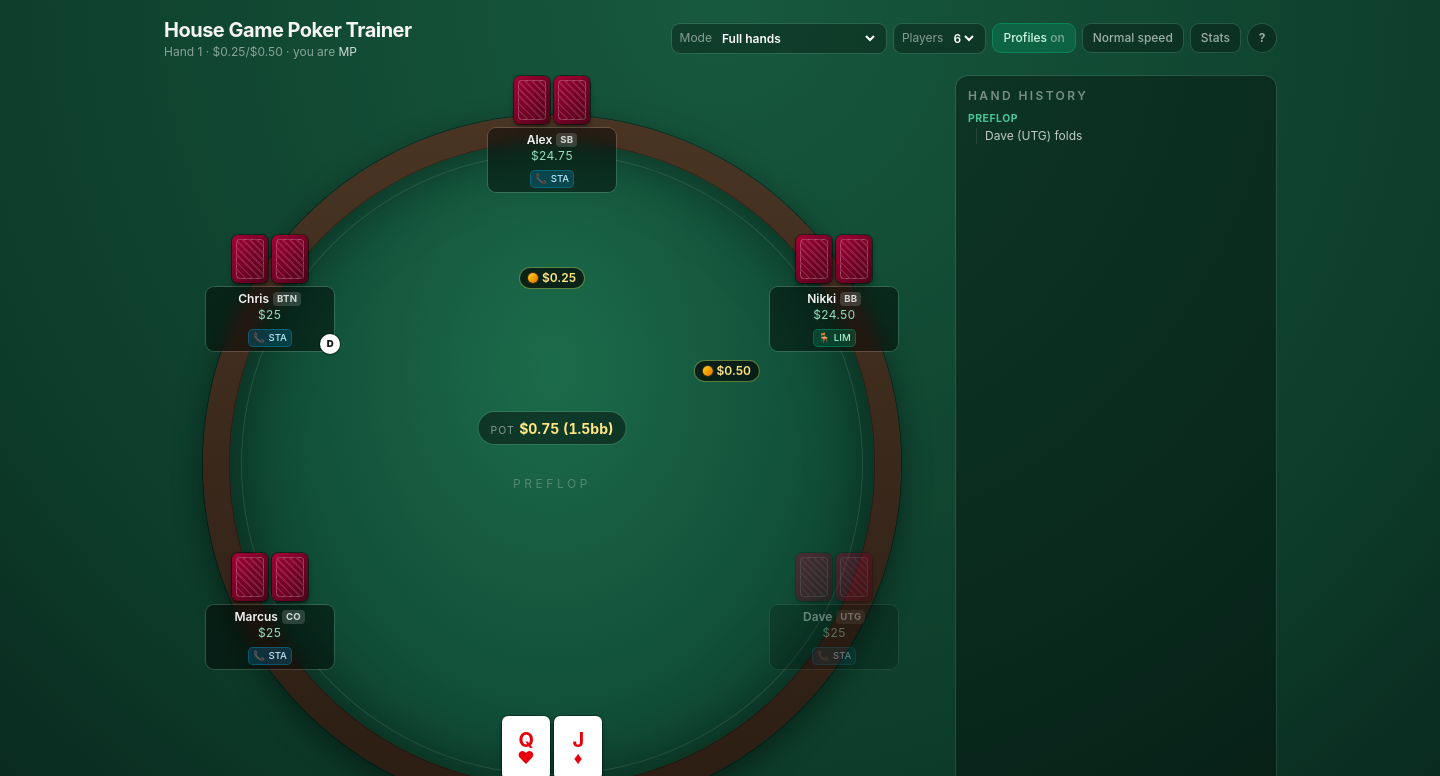
Test: practice modes and stats › explains what each spot drill sets up
The width and height of the screenshot is (1440, 776).
Check: the text "Pot" is shown, box [490, 424, 515, 437]
Step 1. Select "Isolating limpers" in the dropdown named "Practice mode" → (798, 38), box [718, 30, 878, 46]
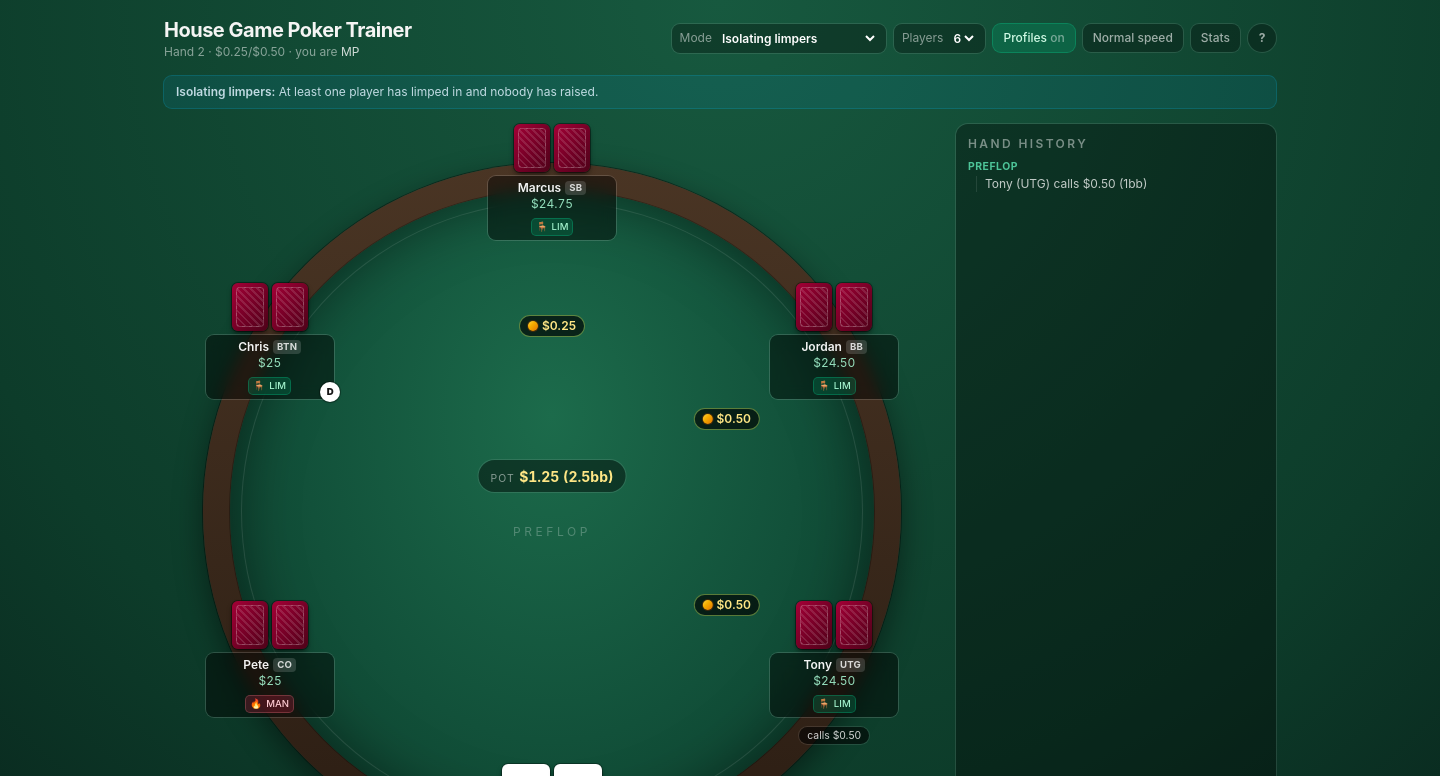
Check: the text "has limped in" is shown, box [279, 84, 598, 99]
Step 2. Select "Short-stack all-ins" in the dropdown named "Practice mode" → (798, 38), box [718, 30, 878, 46]
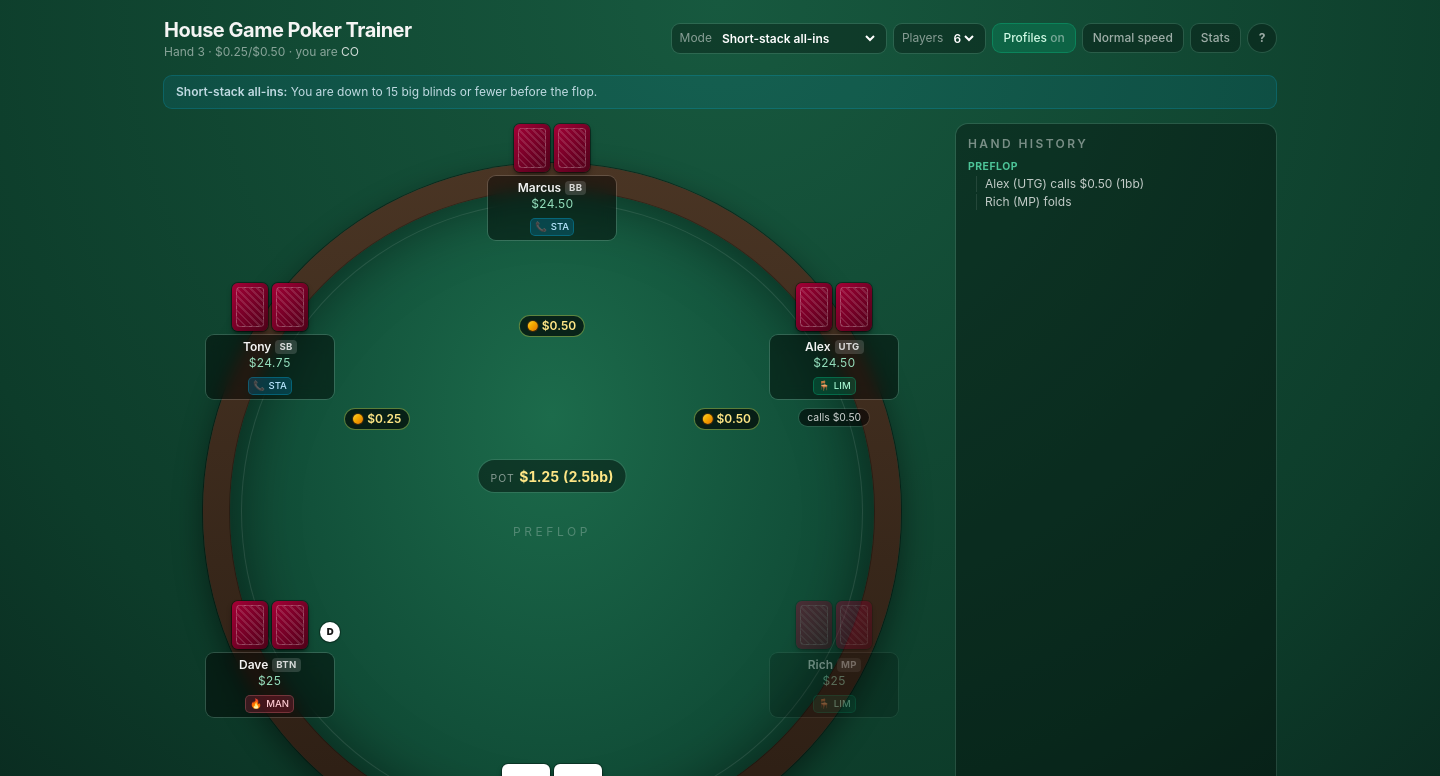
Check: the text "15 big blinds or fewer" is shown, box [291, 84, 597, 99]
